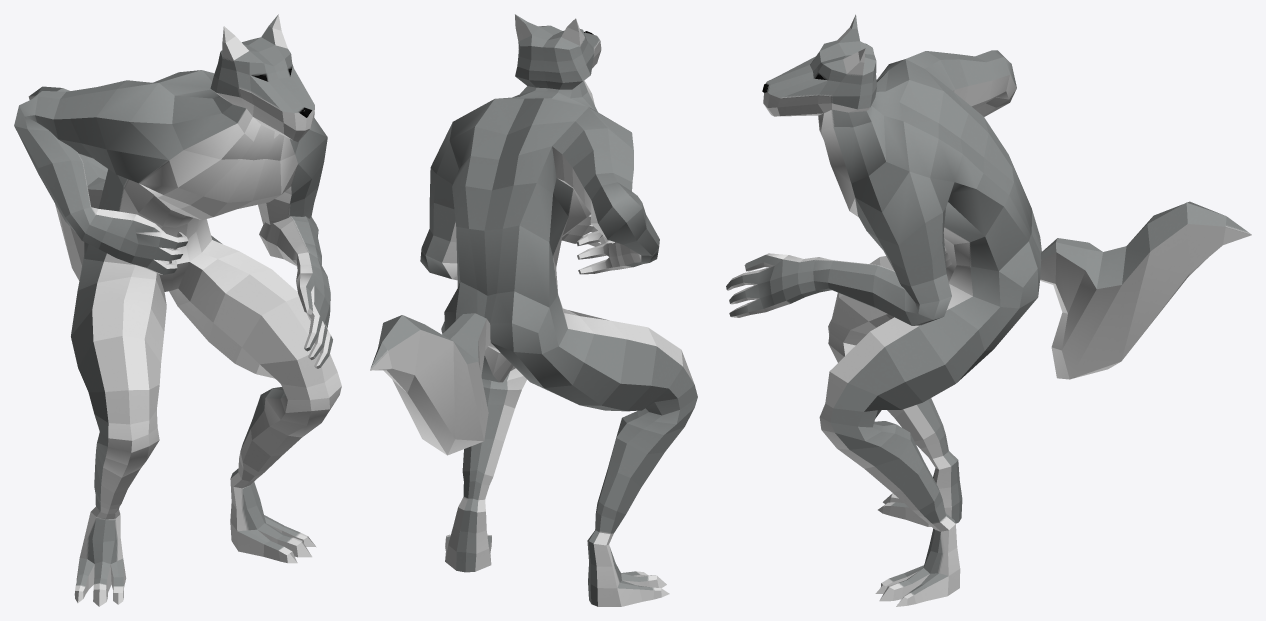
The model's file is WolfIdle_(75).obj.
The picture shows the model from 3 angles, left to right: view 1: azimuth 30°, elevation 25°; view 2: azimuth 150°, elevation 25°; view 3: azimuth 270°, elevation 25°; orthographic projection. The views are drawn at different scales.
Visible parts, largest first — view 1: Box001; view 2: Box001; view 3: Box001.
Part boxes in pixels (left/top/right/bottom): Box001: left=14, top=14, right=341, bottom=606; Box001: left=370, top=14, right=697, bottom=606; Box001: left=726, top=14, right=1251, bottom=606.
Size of the model in its own units: 64.68 by 132 by 116.
